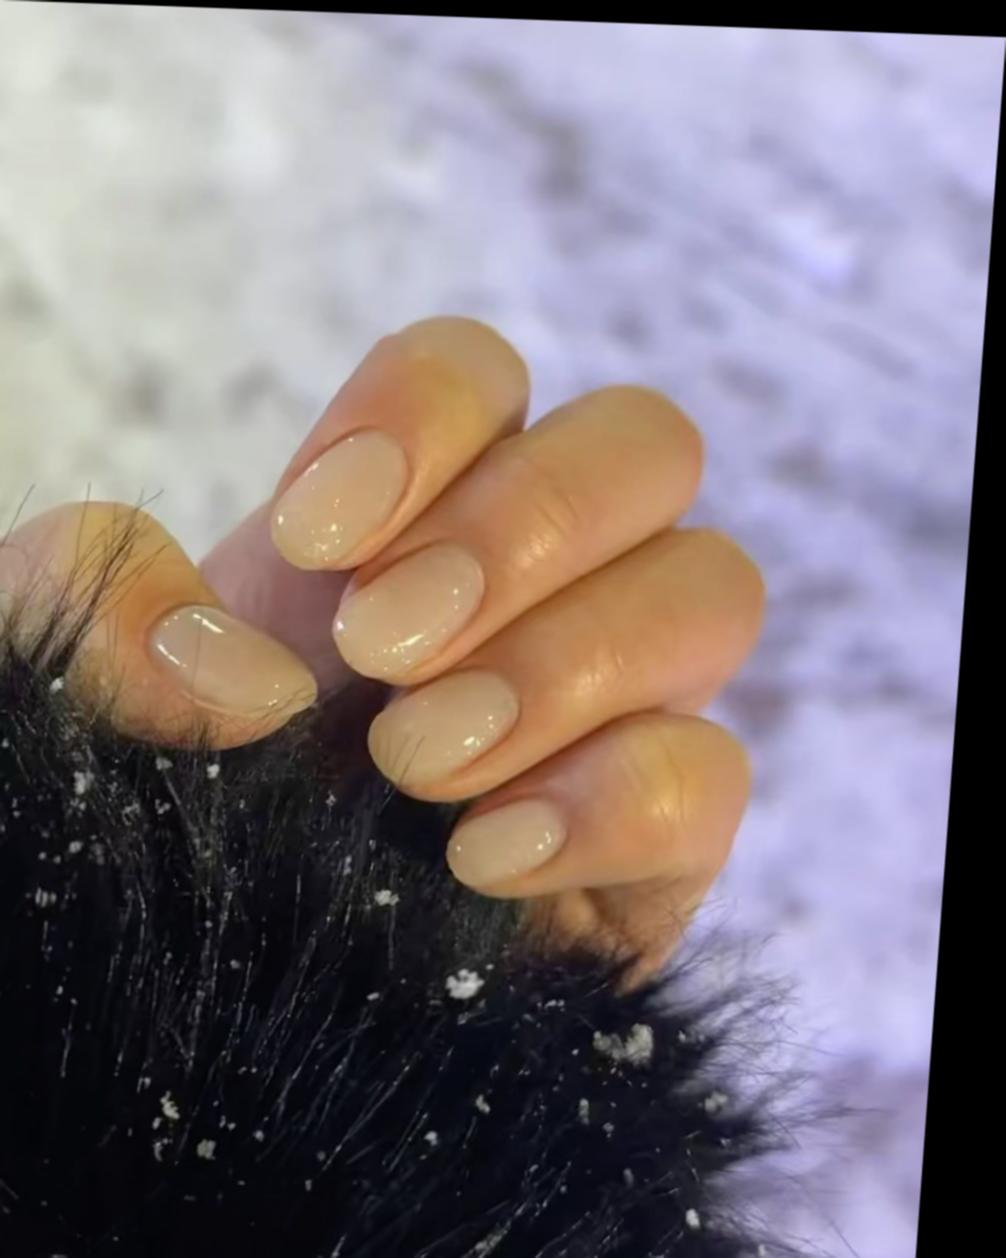nail: (326, 534, 488, 687), (138, 600, 323, 726), (265, 420, 414, 574), (361, 663, 522, 799), (440, 790, 571, 895)
